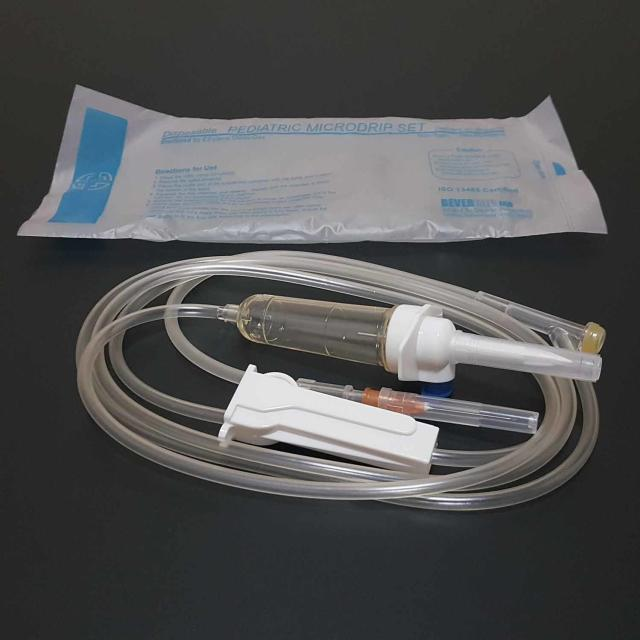B3: (39, 239, 634, 537)
